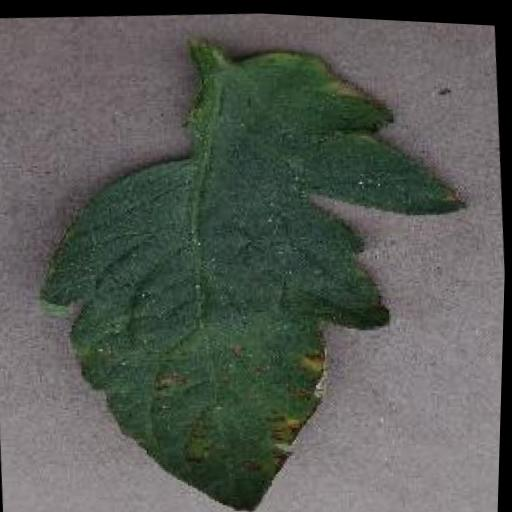Bacterial Spot: (6, 3, 503, 512)
